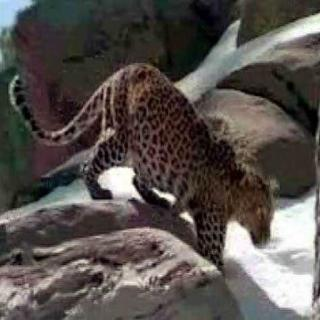Leopard: (4, 41, 280, 268)
